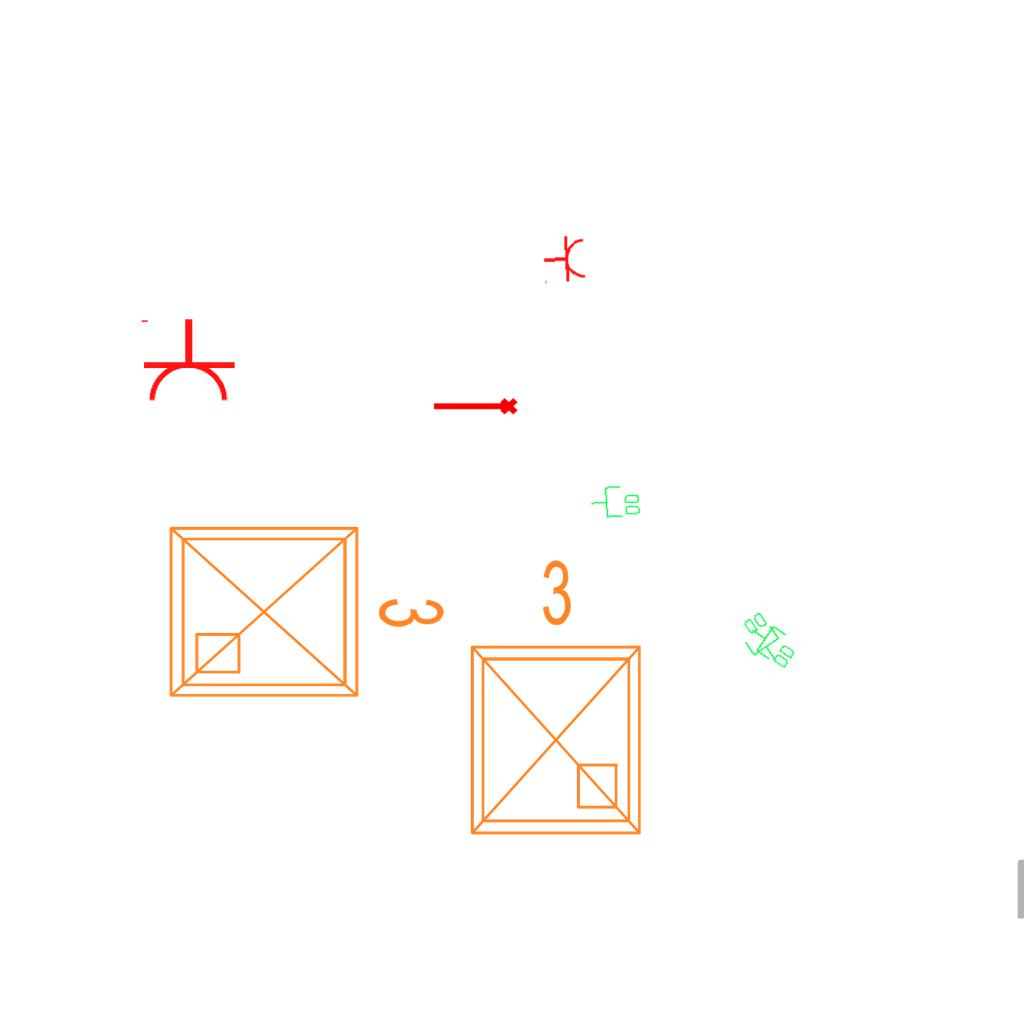ASR_Ansaugoeffnung: (431, 396, 519, 419)
Datenanschluss_zweifach: (741, 615, 804, 673), (733, 608, 790, 670), (588, 483, 643, 521)
Einbaudownlights_LED_Konferenzraeume: (448, 549, 656, 849), (155, 504, 455, 712)
Schukosteckdose_einfach: (137, 317, 237, 404), (541, 233, 588, 287)
